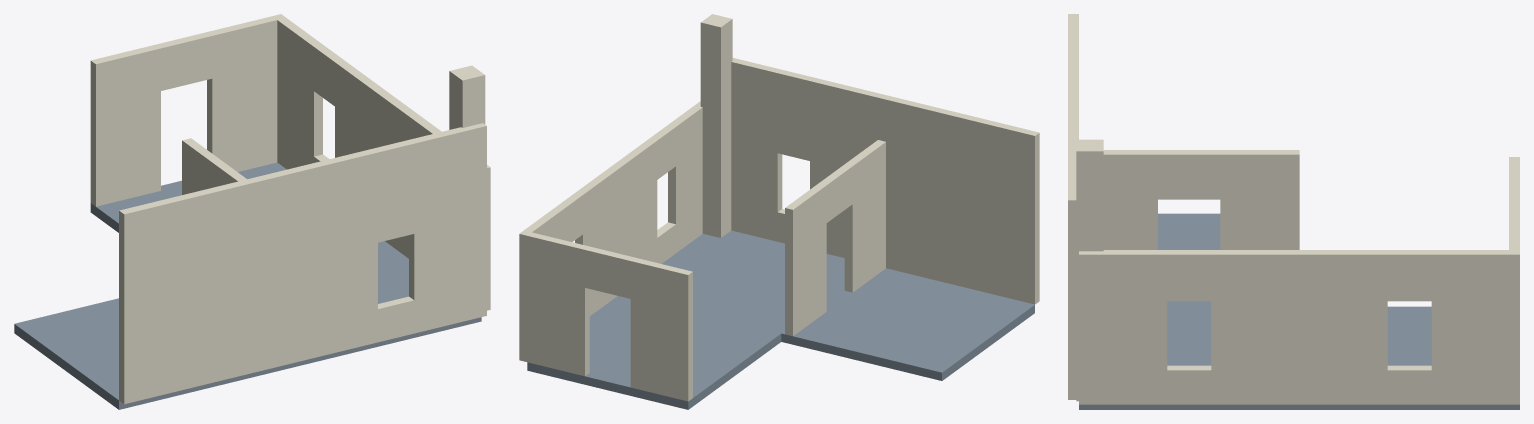
File: cozy_home_structure.glb
3 views of the same model, side by side, from view 1: azimuth 30°, elevation 25°; view 2: azimuth 150°, elevation 25°; view 3: azimuth 270°, elevation 25° (orthographic). The views are drawn at different scales.
Parts seen in each view (by area): view 1: Wall_400x400, Wall_Window_400x400, Wall_Door_400x300, Wall_Window_400x303, Floor_400x401, Wall_Window_400x302, Floor_400x400, Pillar_50x500, Wall_Door_400x301, Floor_400x402; view 2: Wall_400x400, Wall_Door_400x300, Wall_Window_400x400, Floor_400x401, Wall_Door_400x301, Wall_Window_400x302, Floor_400x402, Floor_400x400, Pillar_50x500, Wall_Window_400x303; view 3: Wall_Window_400x303, Wall_Window_400x302, Wall_Door_400x301, Floor_400x402, Floor_400x400, Pillar_50x500, Wall_Window_400x400, Floor_400x401, Wall_Door_400x300, Wall_400x400.
Part boxes in pixels (left/top/right/bottom): Wall_400x400: left=119, top=166, right=305, bottom=404; Wall_Window_400x400: left=300, top=123, right=486, bottom=359; Wall_Door_400x300: left=90, top=16, right=277, bottom=206; Wall_Window_400x303: left=272, top=14, right=385, bottom=169; Floor_400x401: left=14, top=298, right=300, bottom=409; Wall_Window_400x302: left=377, top=90, right=490, bottom=310; Floor_400x400: left=300, top=241, right=481, bottom=365; Pillar_50x500: left=449, top=65, right=485, bottom=129; Wall_Door_400x301: left=182, top=138, right=246, bottom=194; Floor_400x402: left=90, top=162, right=286, bottom=232; Wall_400x400: left=874, top=93, right=1039, bottom=304; Wall_Door_400x300: left=527, top=232, right=692, bottom=401; Wall_Window_400x400: left=731, top=58, right=878, bottom=257; Floor_400x401: left=781, top=268, right=1034, bottom=380; Wall_Door_400x301: left=785, top=140, right=885, bottom=336; Wall_Window_400x302: left=612, top=101, right=702, bottom=263; Floor_400x402: left=527, top=296, right=781, bottom=409; Floor_400x400: left=662, top=230, right=844, bottom=333; Pillar_50x500: left=700, top=14, right=732, bottom=237; Wall_Window_400x303: left=519, top=166, right=620, bottom=361; Wall_Window_400x303: left=1299, top=250, right=1519, bottom=404; Wall_Window_400x302: left=1079, top=250, right=1299, bottom=404; Wall_Door_400x301: left=1103, top=150, right=1299, bottom=249; Floor_400x402: left=1299, top=306, right=1519, bottom=409; Floor_400x400: left=1079, top=307, right=1299, bottom=409; Pillar_50x500: left=1076, top=139, right=1103, bottom=401; Wall_Window_400x400: left=1068, top=107, right=1078, bottom=399; Floor_400x401: left=1158, top=213, right=1220, bottom=306; Wall_Door_400x300: left=1509, top=157, right=1519, bottom=249; Wall_400x400: left=1068, top=14, right=1078, bottom=106.
Size of the model in its own units: 8.19 by 5.2 by 8.2.
